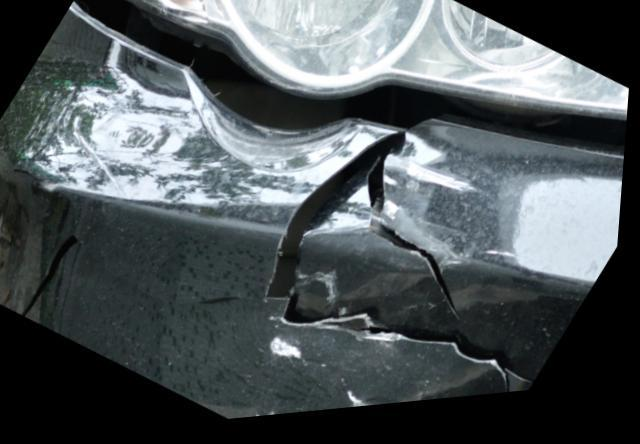crack: (198, 140, 542, 403), (24, 236, 85, 319)
dislocated part: (61, 0, 629, 179)
scratch: (250, 339, 427, 423)
